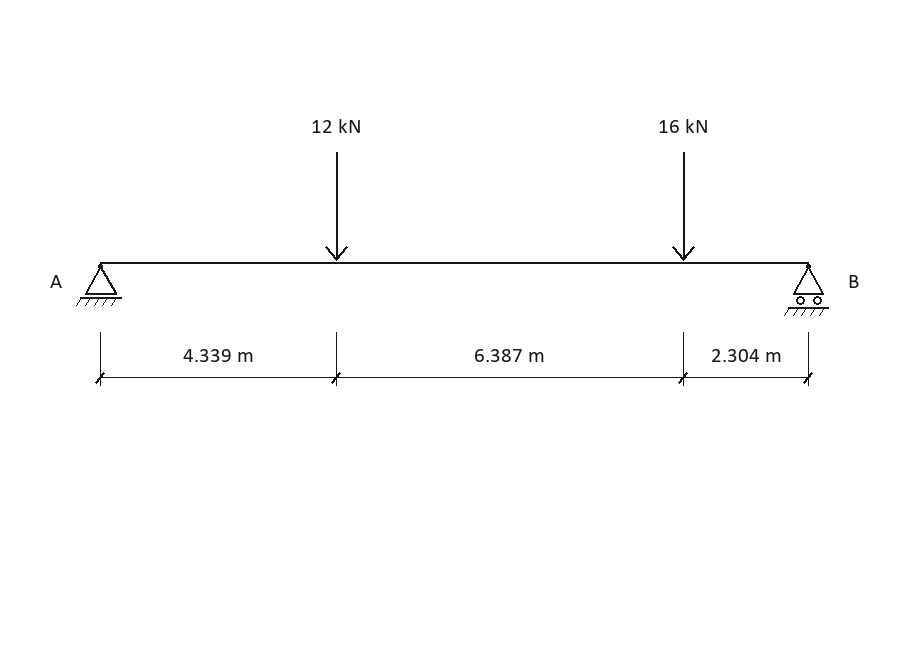pin_support: (76, 264, 122, 306)
point_load: (325, 152, 348, 261), (672, 152, 695, 261)
roller_support: (784, 264, 829, 316)
